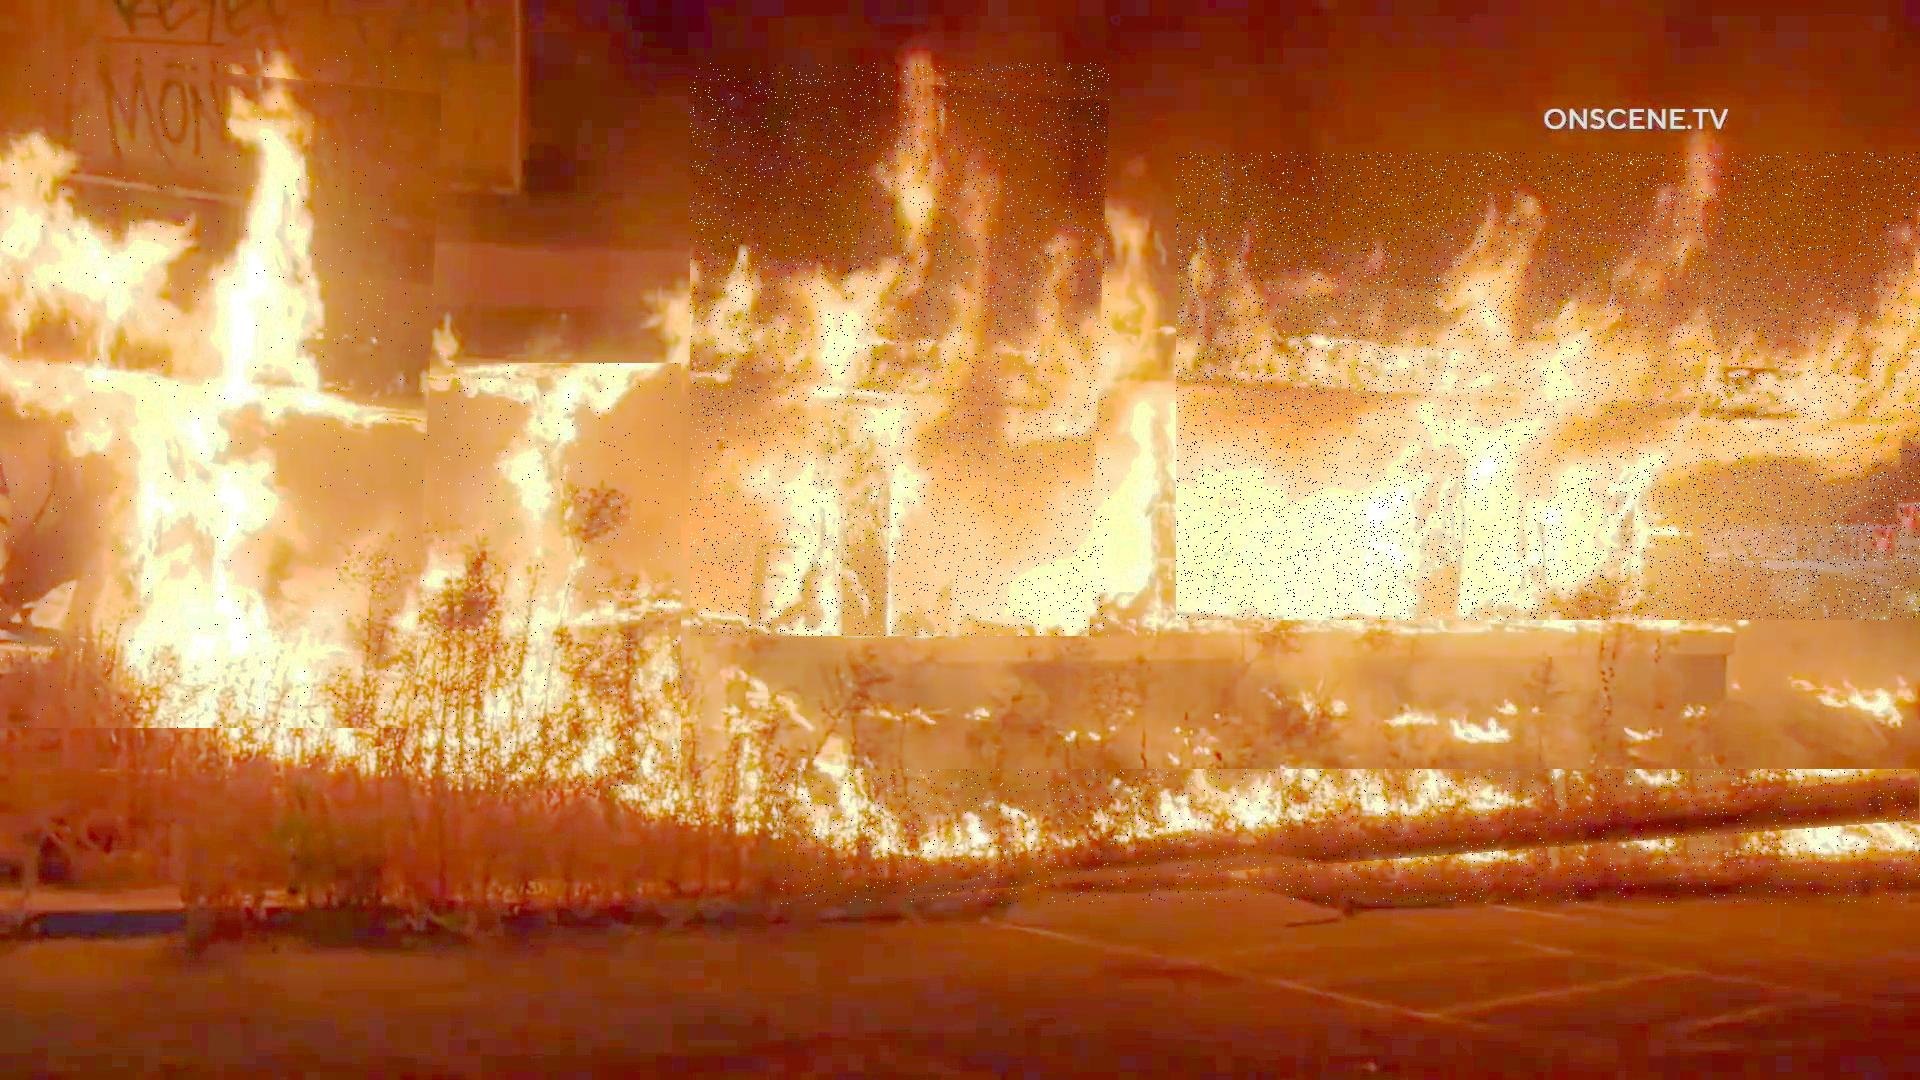fire: (1176, 152, 1920, 620), (0, 51, 440, 728), (690, 63, 1109, 637), (775, 769, 1920, 905), (442, 363, 682, 796)
